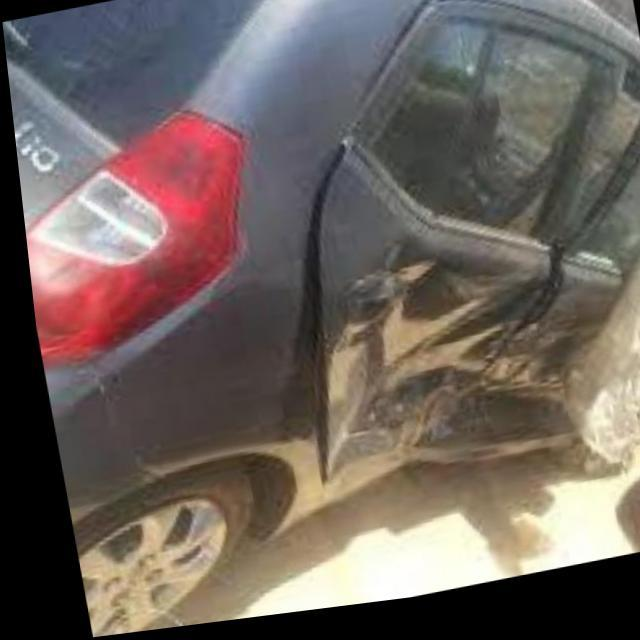dent: (284, 159, 640, 505)
